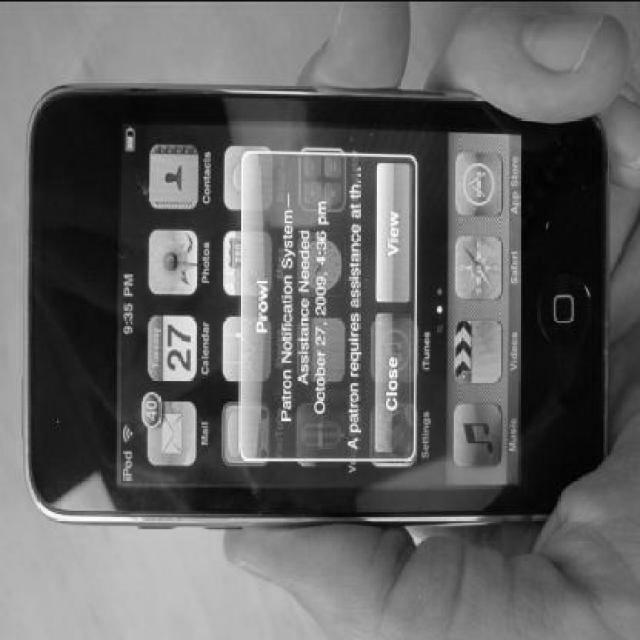fake: (22, 80, 612, 520)
